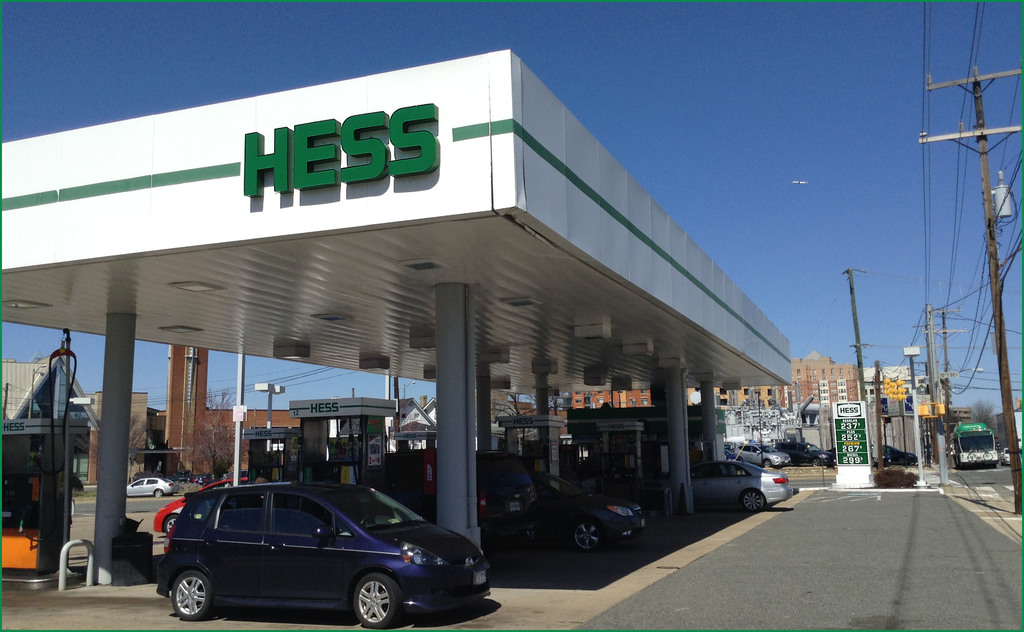Car: (154, 482, 493, 631), (360, 448, 536, 546), (540, 473, 650, 560), (665, 460, 791, 514), (153, 485, 264, 537), (733, 443, 792, 469), (124, 476, 179, 500)
